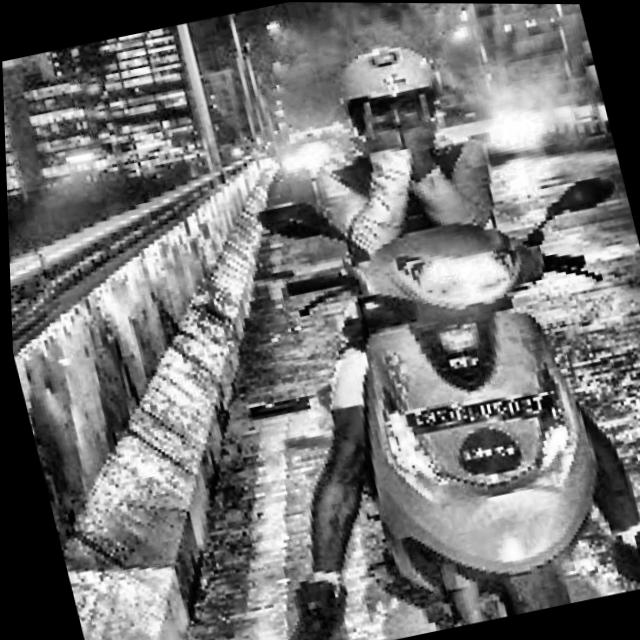motorcycle: (240, 121, 640, 640)
